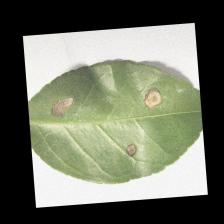canker: (47, 89, 167, 158)
